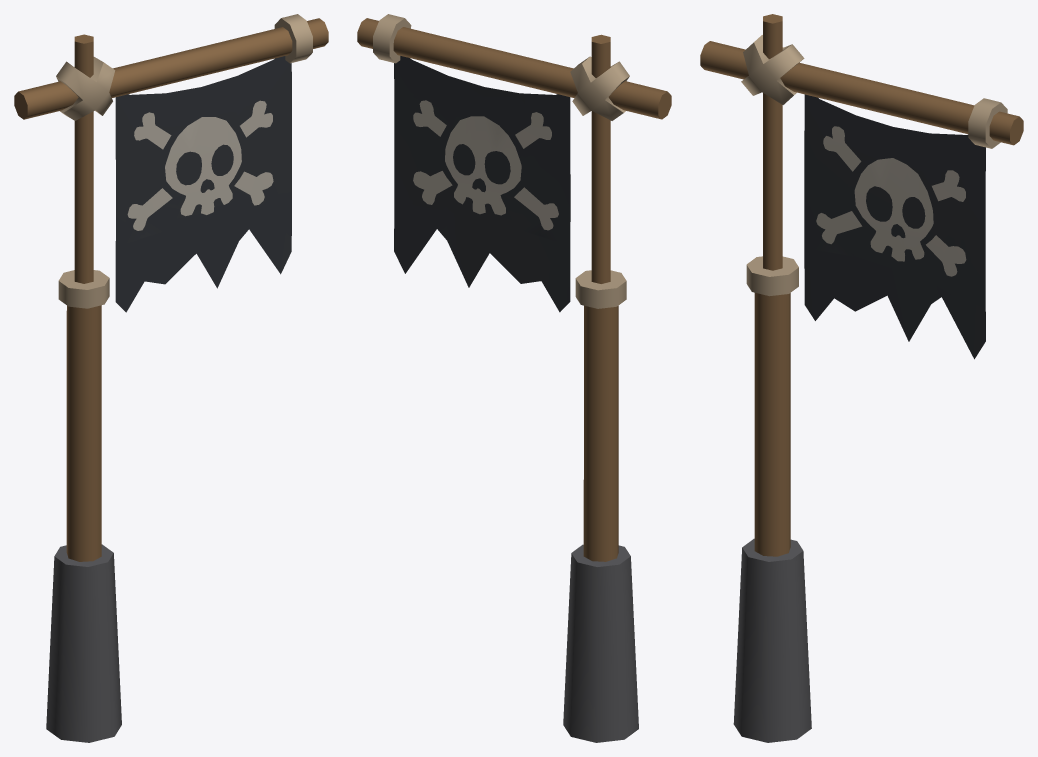
The model's file is Pirate_Flag.fbx.
The picture shows the model from 3 angles, left to right: view 1: azimuth 30°, elevation 25°; view 2: azimuth 150°, elevation 25°; view 3: azimuth 330°, elevation 25°; orthographic projection. The views are drawn at different scales.
Visible parts, largest first — view 1: Pirate_Flag; view 2: Pirate_Flag; view 3: Pirate_Flag.
Part boxes in pixels (left/top/right/bottom): Pirate_Flag: left=14, top=14, right=328, bottom=742; Pirate_Flag: left=357, top=14, right=671, bottom=742; Pirate_Flag: left=700, top=14, right=1023, bottom=742.
Size of the model in its own units: 169 by 368 by 34.37.
